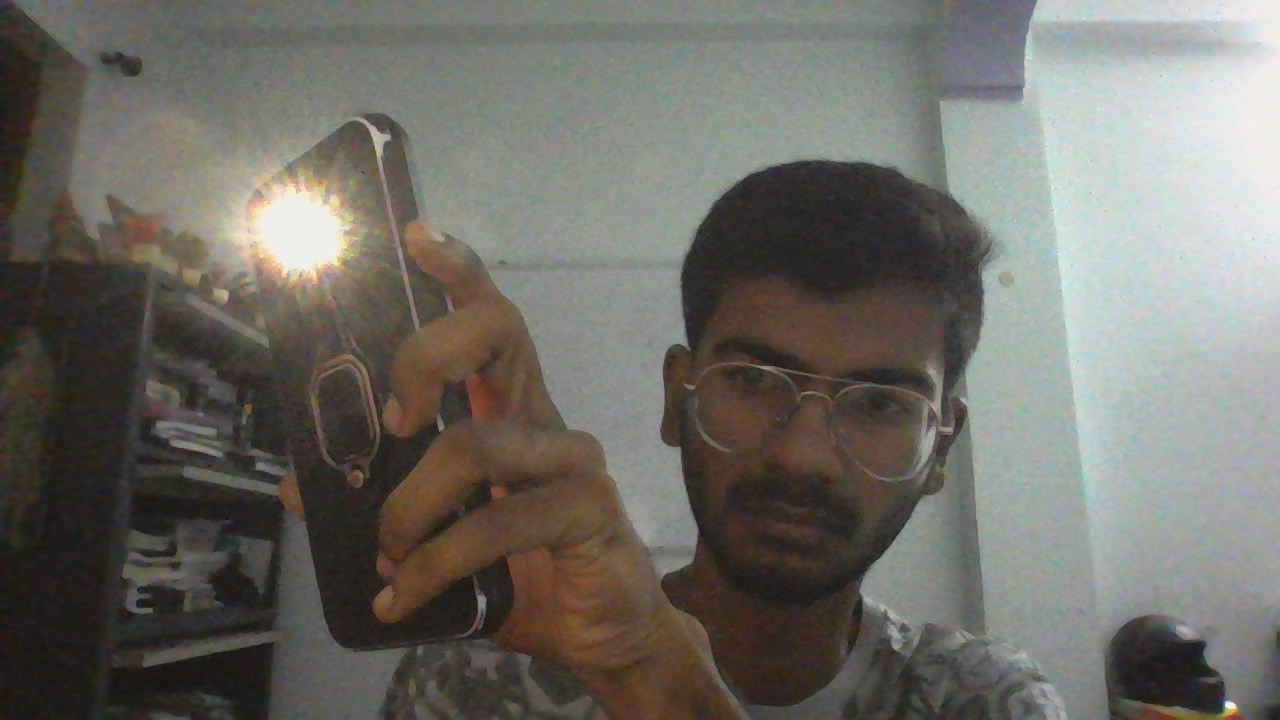Glare: (246, 190, 351, 279)
